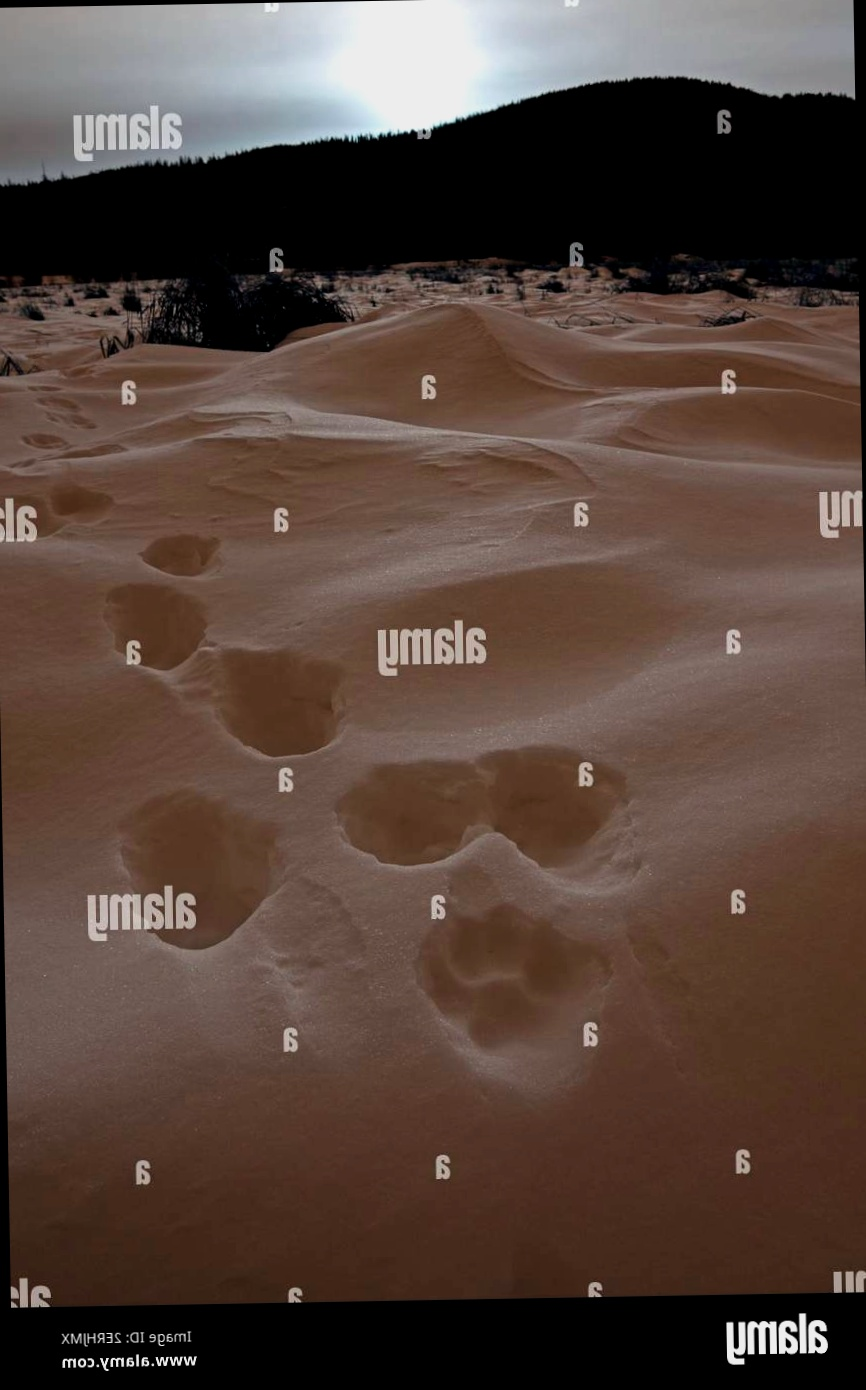loup: (237, 886, 488, 1088)
